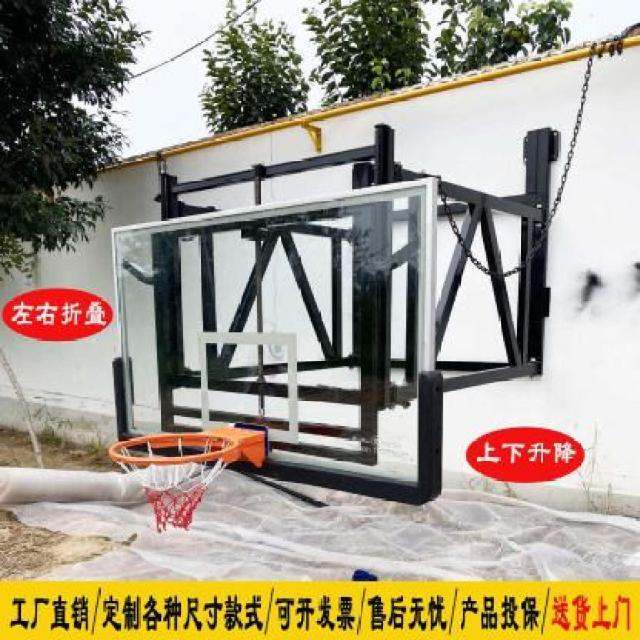rim: (110, 432, 242, 532)
